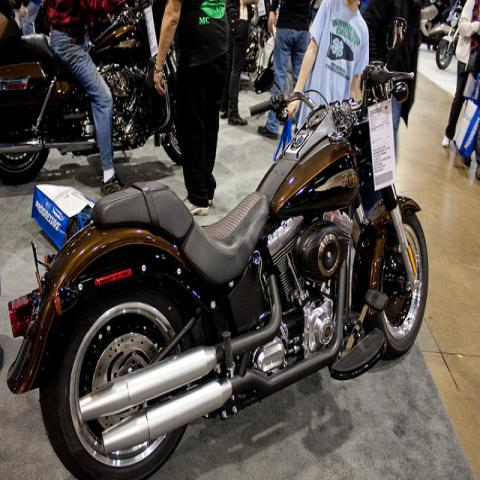motorcycle: (7, 59, 428, 479), (0, 1, 183, 187), (240, 24, 275, 84), (435, 3, 464, 71), (419, 4, 450, 46)
